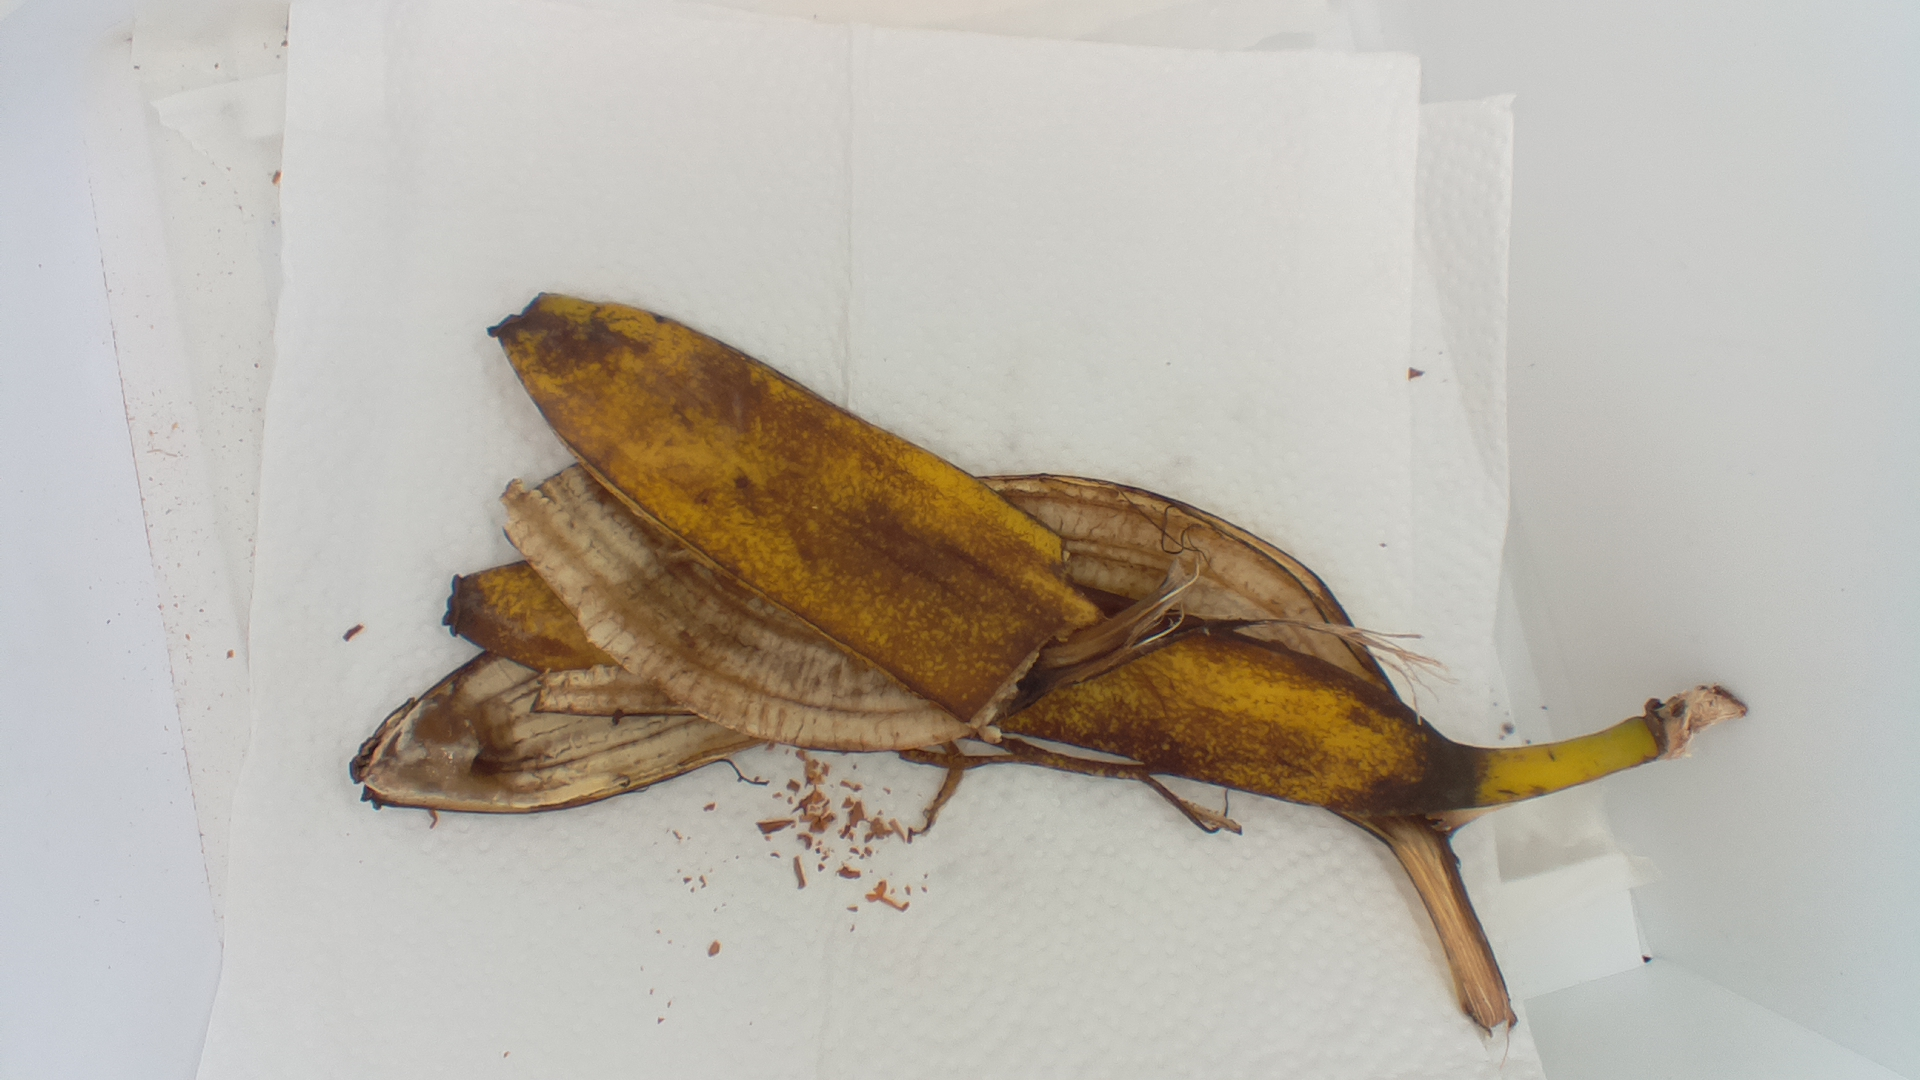fruit: (342, 291, 1751, 1044)
